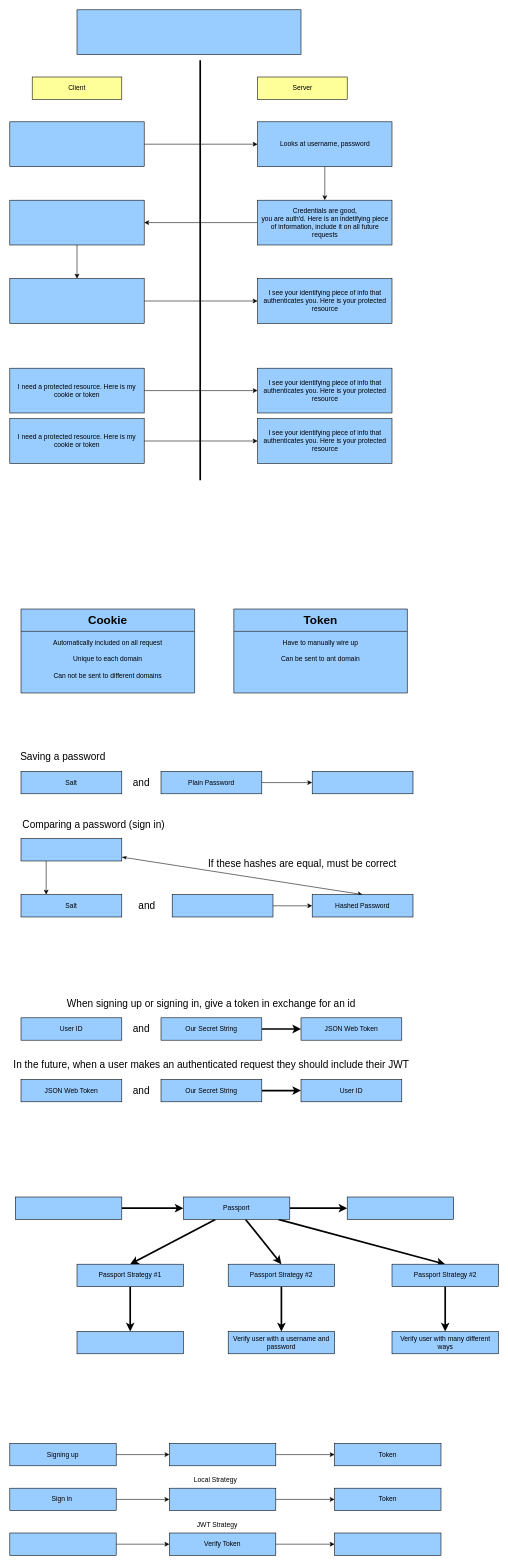
Image size: 508x1565. Some labels were removed from this diagram. The shapes that lost their labels are listed below. From the top down, each one's centre as x and y in pixels, then its label:
At (188,32): "Authentication Process".
At (76,144): "Username, Password".
At (76,222): "Client can make authenticated requests".
At (76,300): "I need a protected resource. Here is my identifying piece of info".
At (362,782): "Salt + Hashed Password ( encrypted password )".
At (71,849): "Salt + Hashed Password".
At (222,905): "Submitted Password".
At (68,1207): "Incoming request".
At (400,1207): "Router Handler".
At (129,1342): "Verify user with a JWT".
At (222,1454): "Verify Email is not in use".
At (222,1499): "Verify Email/Password".
At (62,1543): "Auth'd Request".
At (387,1543): "Resource Access".
